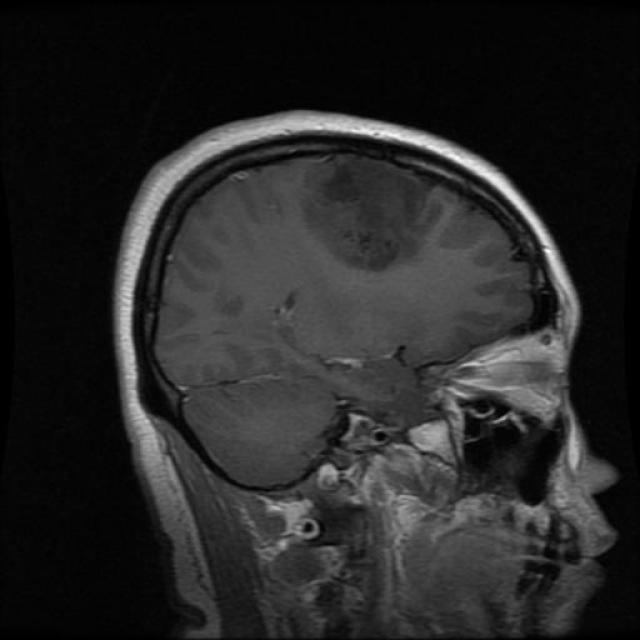glioma: (291, 153, 406, 269)
